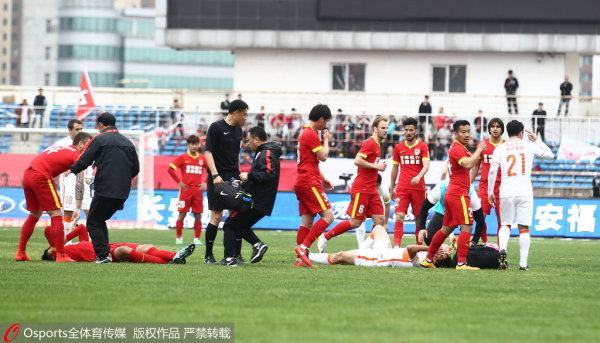10+: (6, 58, 582, 269)
down: (294, 219, 461, 273), (39, 220, 199, 267)
